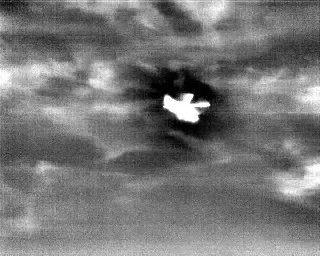HELICOPTER: (161, 88, 214, 127)
